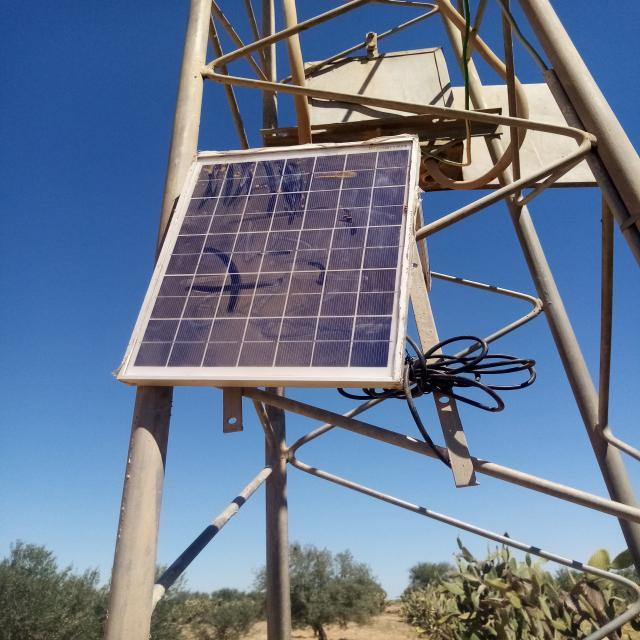faulty: (119, 139, 415, 379)
